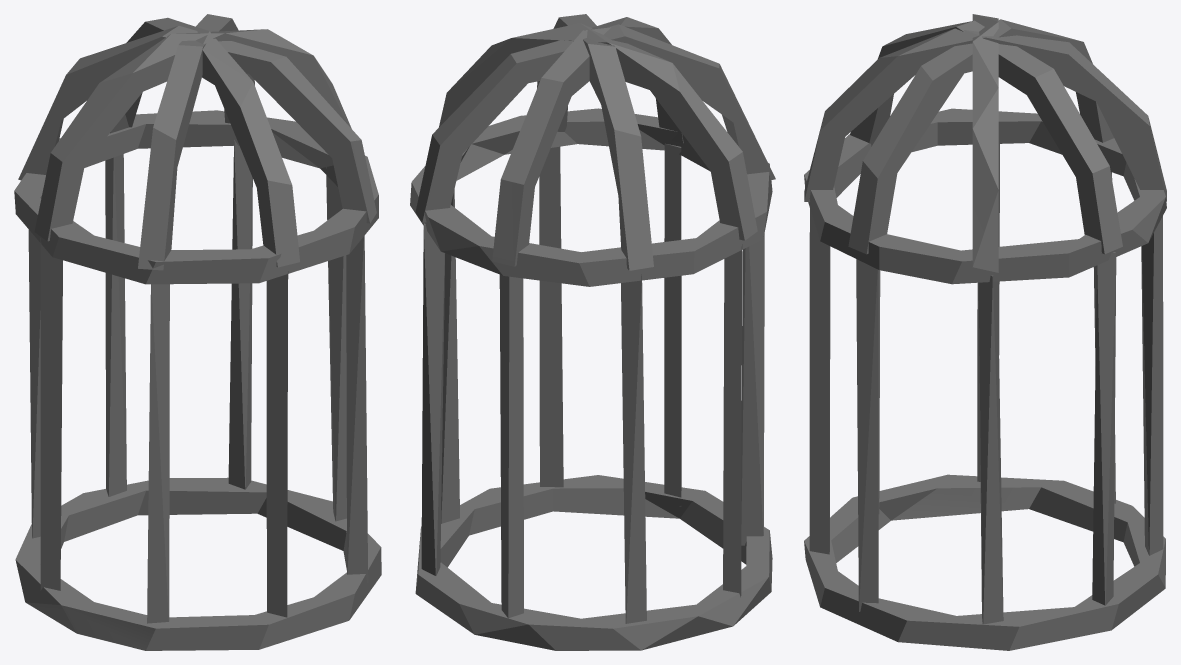
The model's file is LPCP_Cage21.fbx.
The picture shows the model from 3 angles, left to right: view 1: azimuth 30°, elevation 25°; view 2: azimuth 150°, elevation 25°; view 3: azimuth 270°, elevation 25°; orthographic projection.
Visible parts, largest first — view 1: LPCP_Cage21; view 2: LPCP_Cage21; view 3: LPCP_Cage21.
Boxes of the visible parts, left/top/right/bottom form: LPCP_Cage21: left=14, top=14, right=381, bottom=650; LPCP_Cage21: left=410, top=14, right=775, bottom=650; LPCP_Cage21: left=804, top=14, right=1166, bottom=650.
Bounding box in the file's own units: 1.69 × 2.76 × 1.68.
